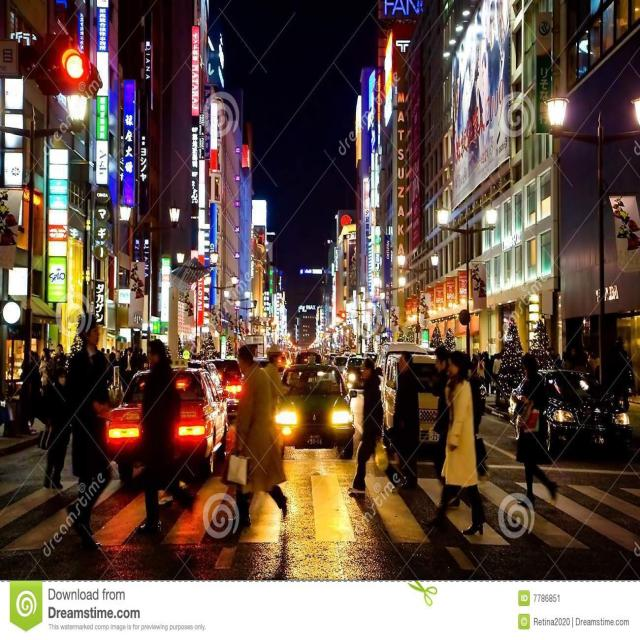body: (128, 262, 516, 399), (60, 309, 125, 554), (222, 342, 290, 531), (17, 338, 129, 450), (134, 338, 196, 540), (422, 347, 487, 539), (441, 0, 504, 197), (344, 354, 404, 499), (548, 332, 636, 429), (508, 352, 558, 508), (33, 366, 72, 491), (392, 351, 420, 489), (429, 344, 452, 484), (604, 187, 640, 266), (262, 342, 292, 410), (0, 188, 21, 249), (254, 226, 266, 253), (347, 237, 359, 262)
